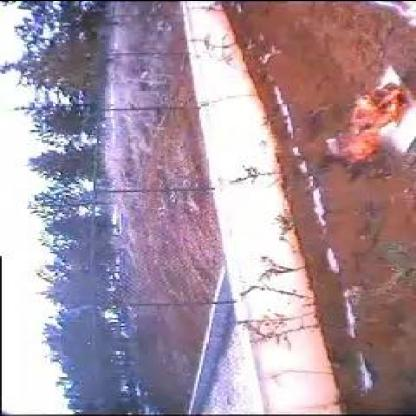-: (334, 120, 348, 150)
foggia-v2-map80-epoch100 - v1 4323: (345, 87, 404, 163)
